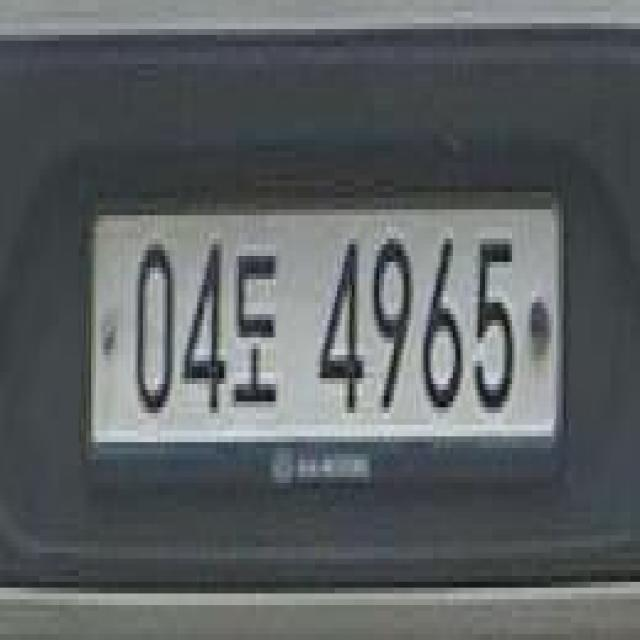illegal_plate: (89, 200, 566, 501)
